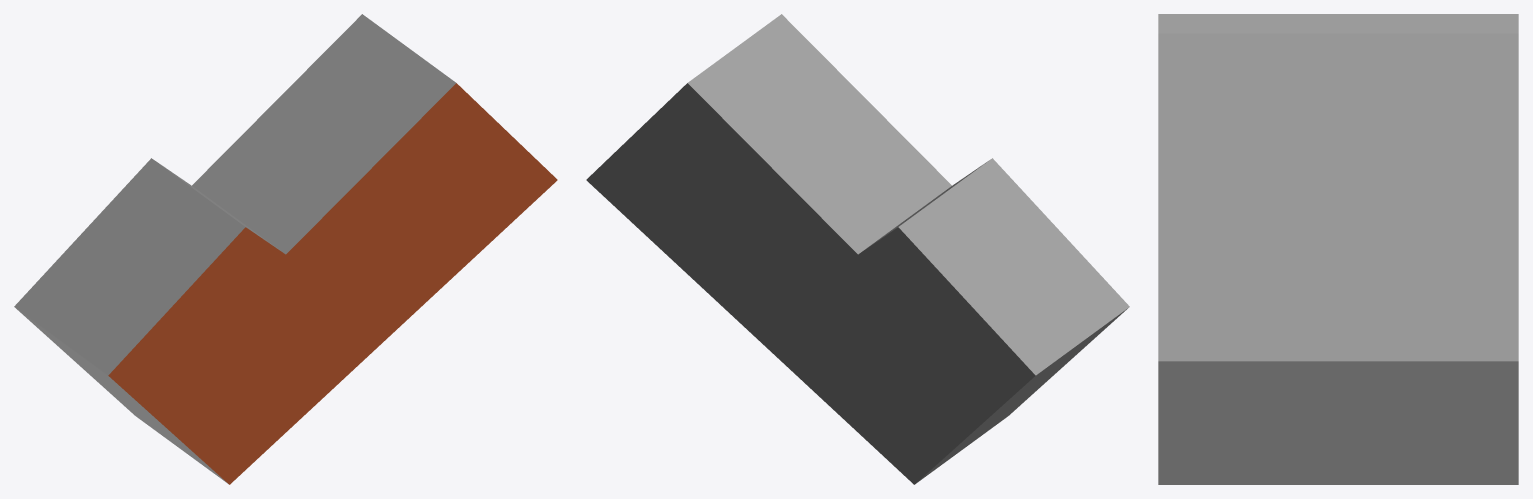
File: construction_6481_assumed_A_Casa_h6m.obj
3 views of the same model, side by side, from view 1: azimuth 30°, elevation 25°; view 2: azimuth 150°, elevation 25°; view 3: azimuth 270°, elevation 25° (orthographic). The views are drawn at different scales.
Visible parts, largest first — view 1: construction_6481_assumed_A_Casa; view 2: construction_6481_assumed_A_Casa; view 3: construction_6481_assumed_A_Casa.
Part boxes in pixels (x1=…): construction_6481_assumed_A_Casa: x1=14, y1=14, x2=557, y2=484; construction_6481_assumed_A_Casa: x1=586, y1=14, x2=1129, y2=484; construction_6481_assumed_A_Casa: x1=1158, y1=14, x2=1518, y2=484.
Size of the model in its own units: 16.54 by 12.18 by 6.
